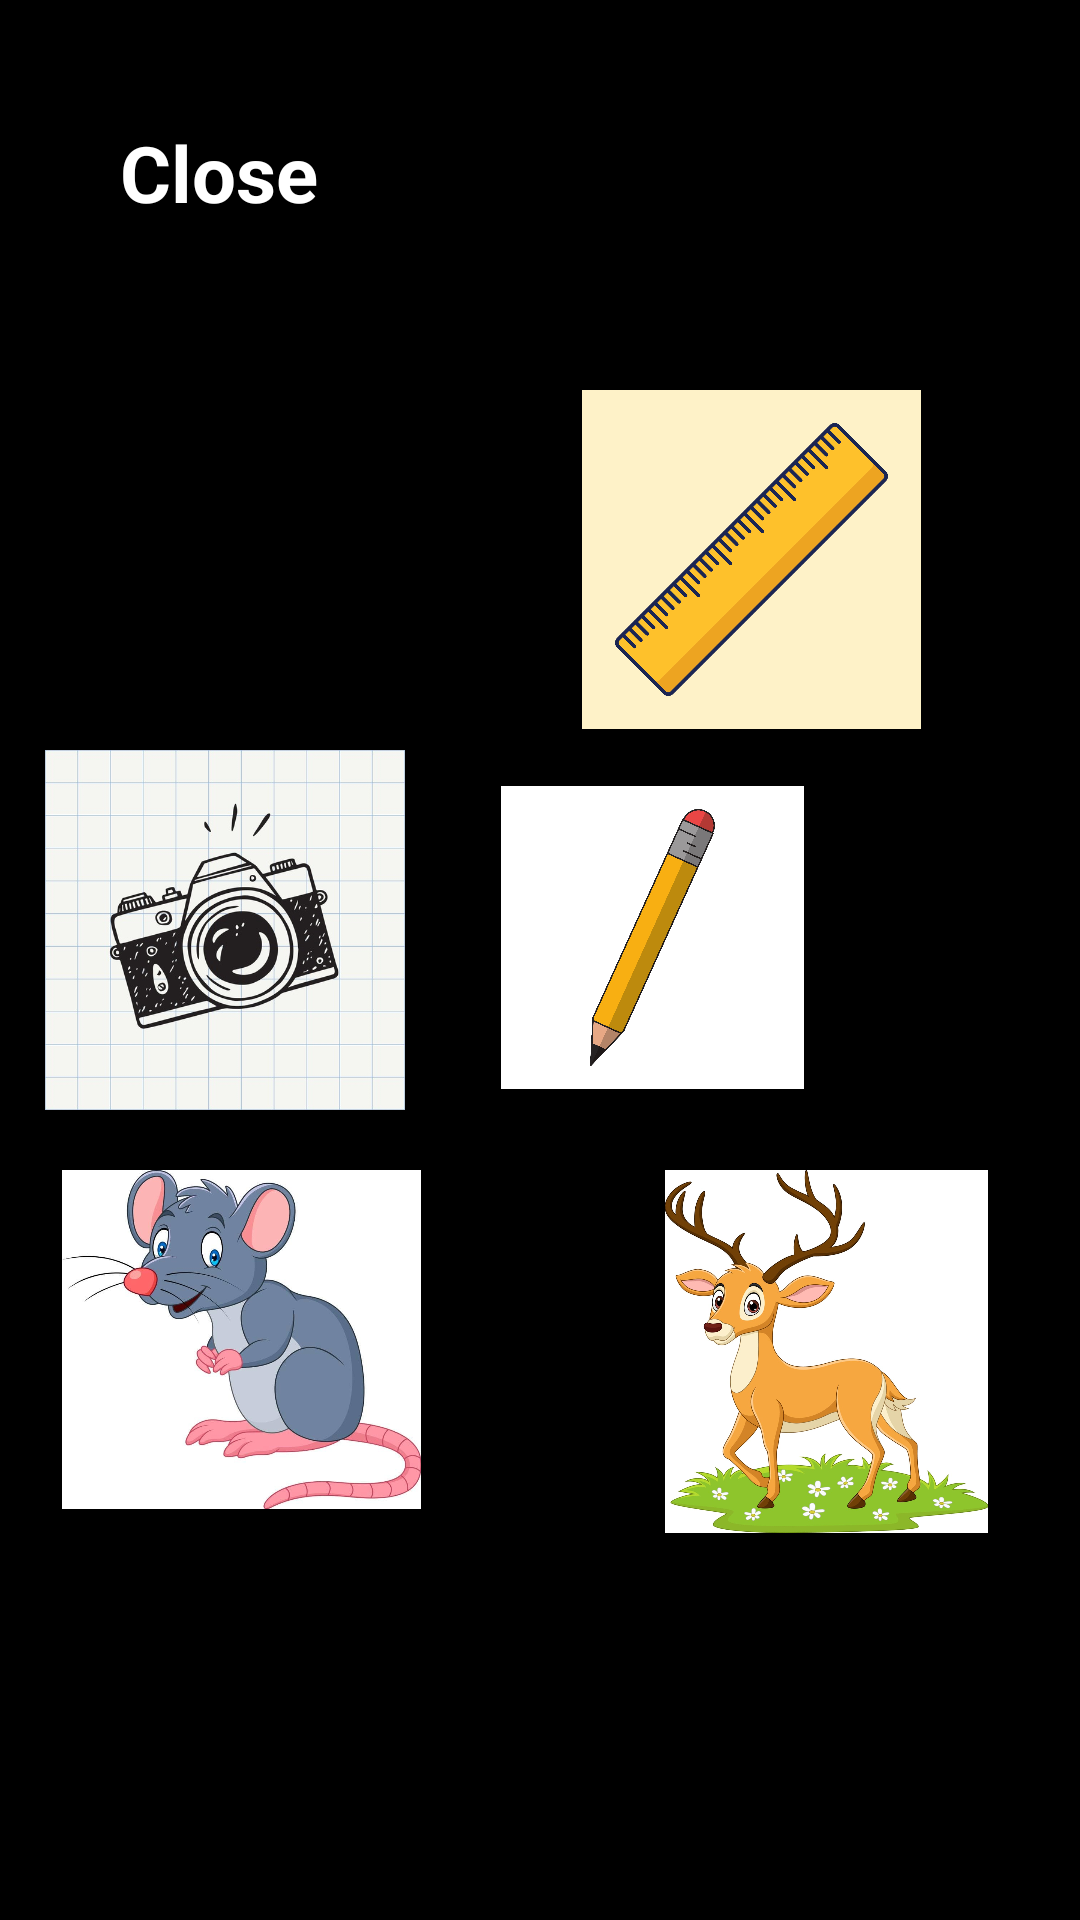

Where to tap for icons on this 1080w x 1920h app screen, as (x=x, y=y):
camera: (x=225, y=930)
pencilll: (x=652, y=937)
ruller: (x=751, y=559)
